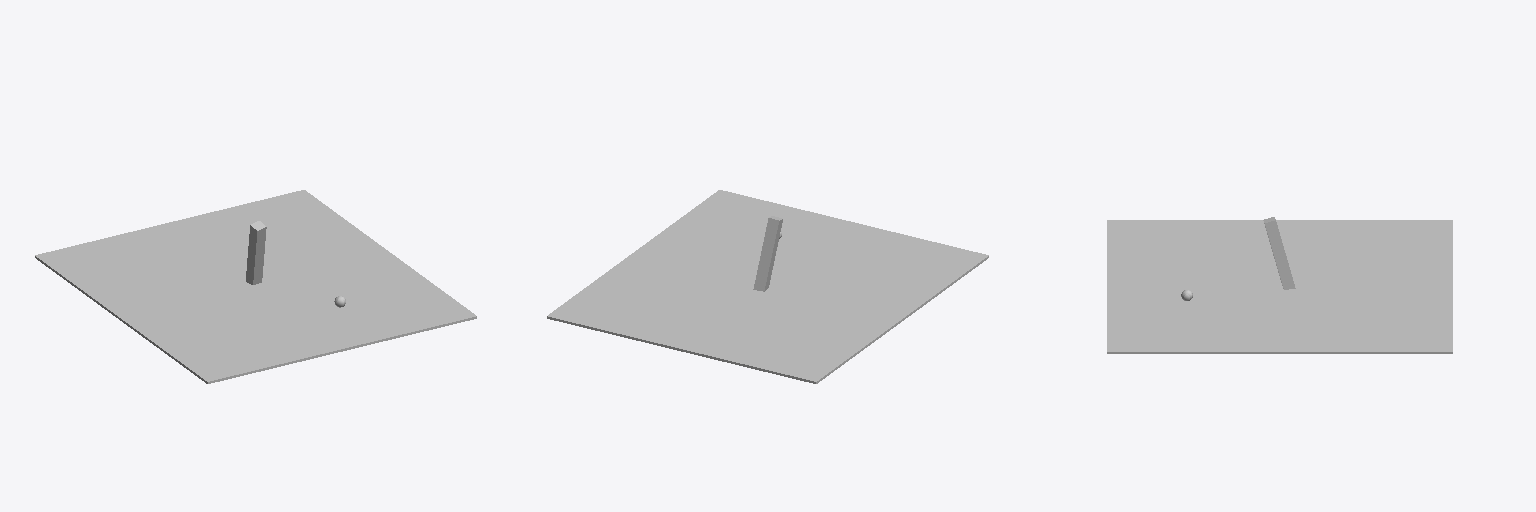
Rendered from cubes.obj.
The picture shows the model from 3 angles: view 1: azimuth 30°, elevation 25°; view 2: azimuth 150°, elevation 25°; view 3: azimuth 270°, elevation 25°; orthographic projection.
Visible parts, largest first — view 1: Cube_Cube.001, Cube.001_Cube.002; view 2: Cube_Cube.001, Cube.001_Cube.002; view 3: Cube_Cube.001, Cube.001_Cube.002.
Part boxes in pixels (x1,y1,x2,y2): Cube_Cube.001: (35,190,476,383); Cube.001_Cube.002: (246,221,266,284); Cube_Cube.001: (547,190,988,383); Cube.001_Cube.002: (753,216,782,291); Cube_Cube.001: (1107,220,1452,353); Cube.001_Cube.002: (1263,217,1295,289).
Size of the model in its own units: 1509 by 391 by 1675.